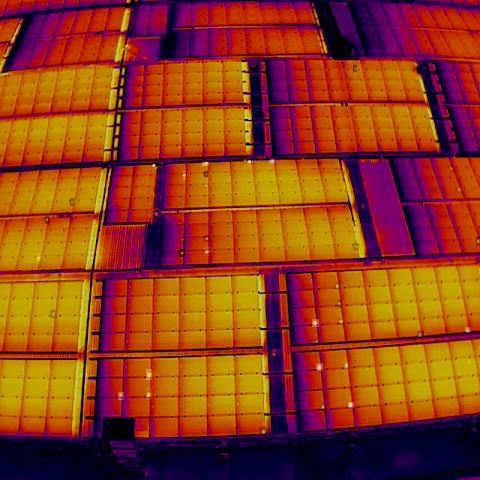fault: (146, 369, 152, 380), (146, 389, 152, 400), (260, 427, 267, 436), (50, 310, 57, 319), (316, 363, 323, 371), (312, 319, 319, 327), (204, 247, 210, 256), (118, 392, 124, 400), (179, 249, 185, 257), (204, 235, 210, 242), (418, 331, 424, 338), (36, 254, 41, 262), (337, 300, 342, 308), (476, 236, 480, 246), (348, 402, 354, 408), (465, 327, 471, 333), (269, 158, 275, 164), (335, 282, 340, 289), (354, 243, 359, 250), (248, 158, 253, 165), (151, 162, 156, 169), (202, 161, 209, 166), (45, 216, 49, 224), (70, 198, 74, 206), (458, 186, 462, 194), (450, 165, 454, 173), (320, 405, 326, 410), (344, 362, 349, 368), (339, 318, 344, 324), (204, 182, 209, 188), (353, 65, 357, 72), (183, 171, 186, 180), (205, 171, 208, 177)
